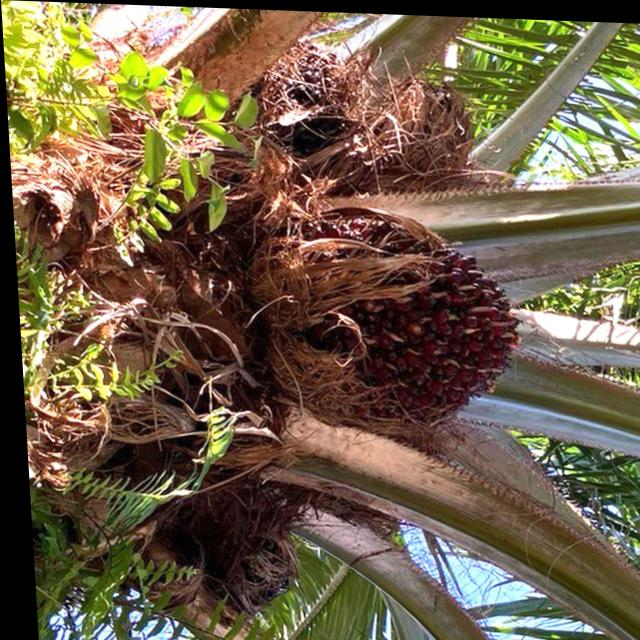ripe: (271, 234, 518, 441)
